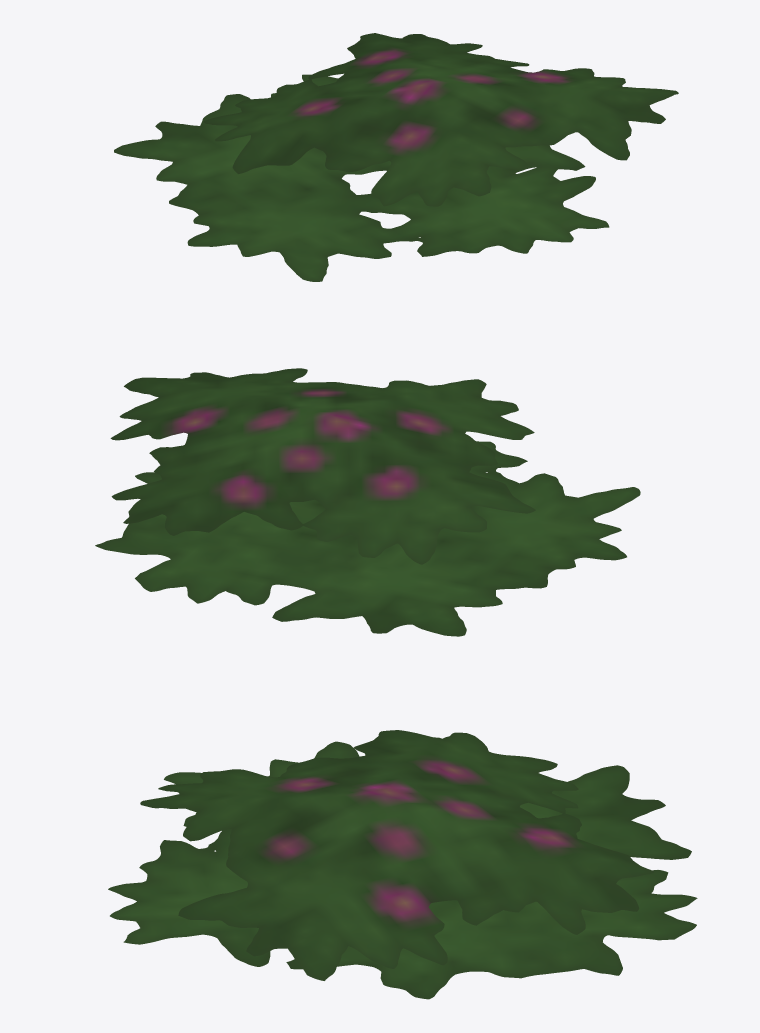
File: Bush_08.fbx
3 renders of one model, top to bottom at view 1: azimuth 30°, elevation 25°; view 2: azimuth 150°, elevation 25°; view 3: azimuth 270°, elevation 25°, orthographic. The views are drawn at different scales.
Visible parts, largest first — view 1: Bush_08; view 2: Bush_08; view 3: Bush_08.
Part boxes in pixels (x1=…): Bush_08: x1=114, y1=33, x2=678, y2=281; Bush_08: x1=95, y1=368, x2=640, y2=636; Bush_08: x1=108, y1=730, x2=697, y2=999.
Size of the model in its own units: 199 by 29.04 by 184.
1 material, 1 textured.
